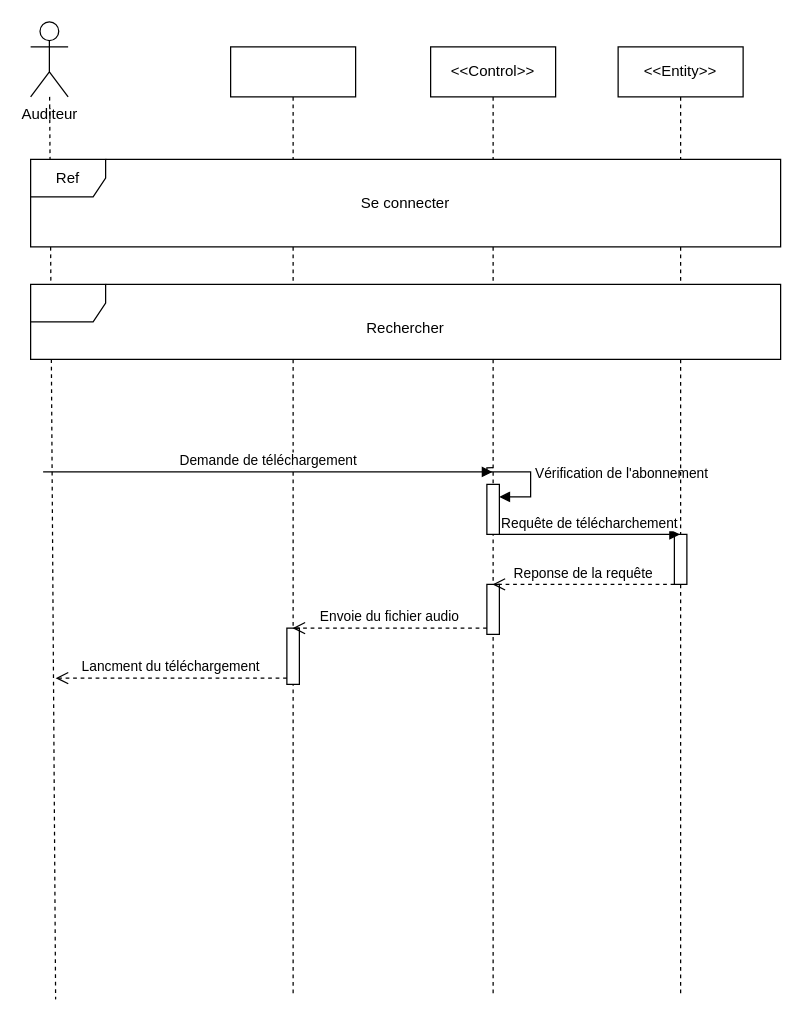
This 803x1023 diagram has some shape labels left out. Each missing label, with the box of its shape:
<<Boundary>> Page de lecture: (229, 46, 356, 997)
frame: (29, 283, 781, 359)
